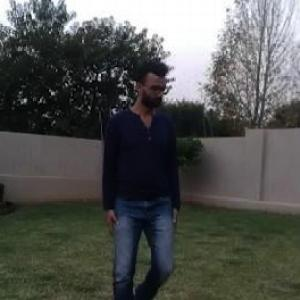follow: (100, 56, 188, 299)
